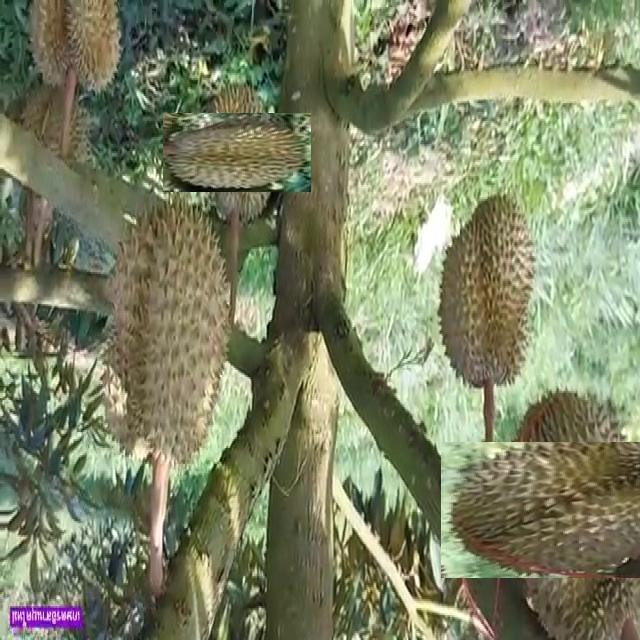durian: (101, 188, 236, 479), (472, 411, 640, 610), (436, 189, 536, 393), (180, 95, 295, 210), (25, 2, 126, 99)
